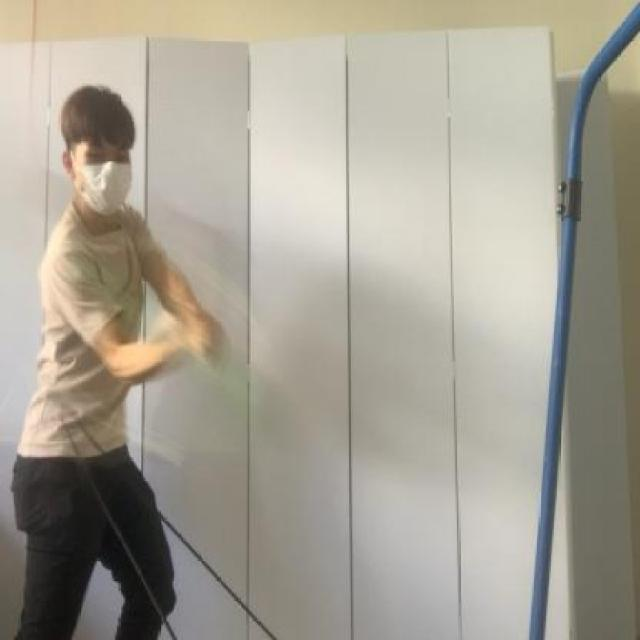baseball: (161, 319, 307, 458)
